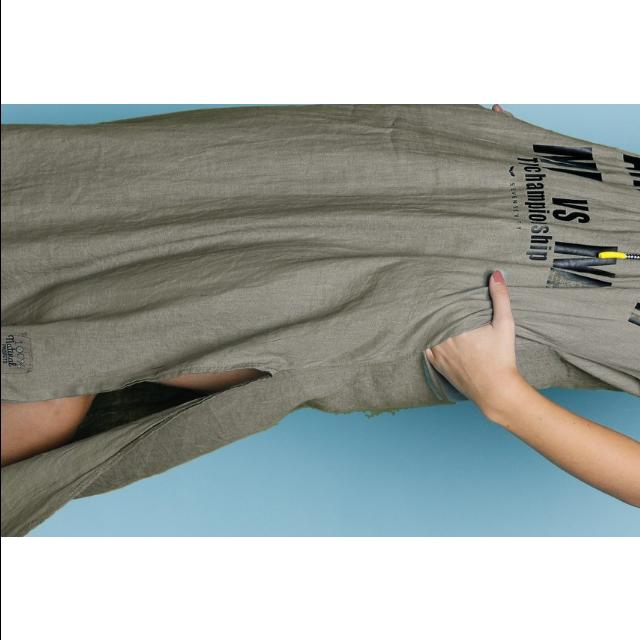linen: (0, 114, 640, 514)
